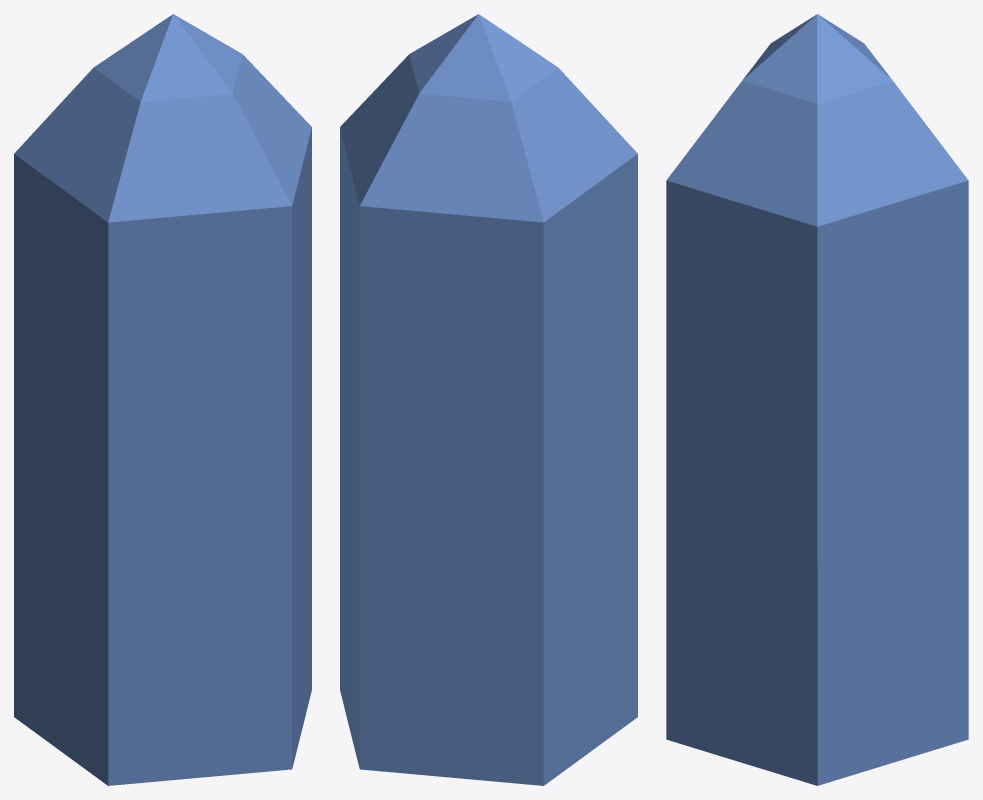
Rendered from CrystalA.FBX.
3 renders of one model, left to right at view 1: azimuth 30°, elevation 25°; view 2: azimuth 150°, elevation 25°; view 3: azimuth 270°, elevation 25°, orthographic.
Visible parts, largest first — view 1: outA; view 2: outA; view 3: outA.
Part boxes in pixels (box(x1,y1,x2,y2)): outA: box(14, 14, 311, 785); outA: box(340, 14, 637, 785); outA: box(666, 14, 968, 785).
Bounding box in the file's own units: 32.35 × 87.53 × 34.01.
